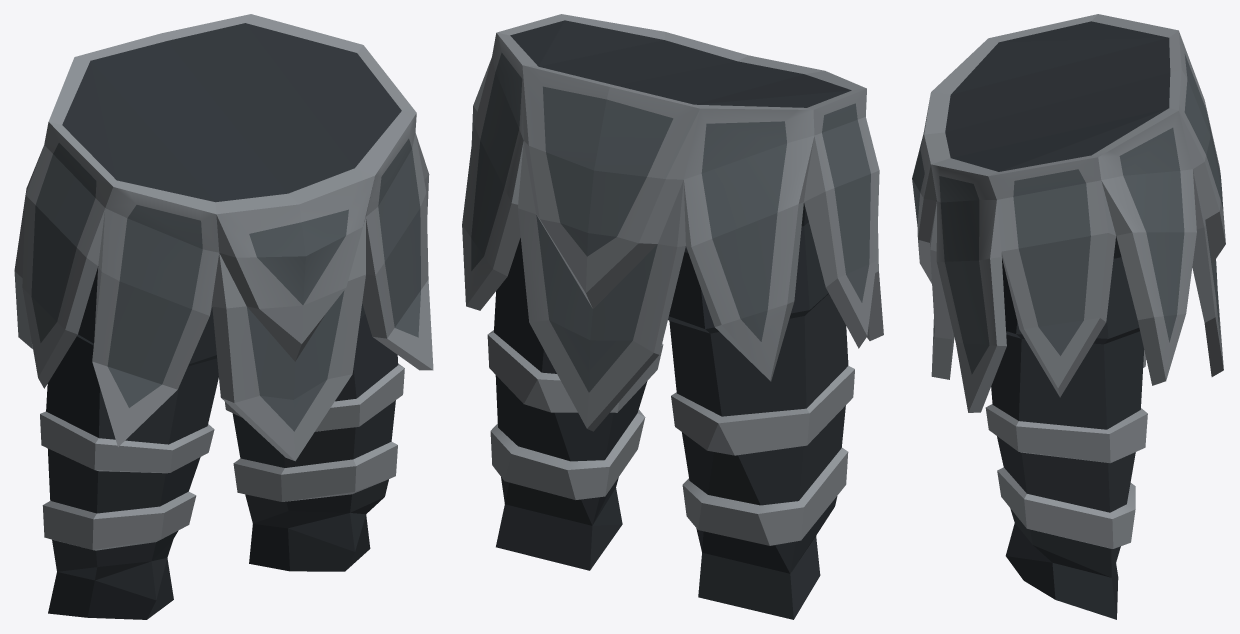
The model's file is Chr_Hips_Male_15_Static.fbx.
3 views of the same model, side by side, from view 1: azimuth 30°, elevation 25°; view 2: azimuth 150°, elevation 25°; view 3: azimuth 270°, elevation 25° (orthographic). The views are drawn at different scales.
Parts seen in each view (by area): view 1: Chr_Hips_Male_15_Static; view 2: Chr_Hips_Male_15_Static; view 3: Chr_Hips_Male_15_Static.
Boxes of the visible parts, x1,y1,x2,y2 form: Chr_Hips_Male_15_Static: [14, 14, 433, 619]; Chr_Hips_Male_15_Static: [462, 14, 883, 619]; Chr_Hips_Male_15_Static: [912, 14, 1225, 619].
Size of the model in its own units: 0.4235 by 0.554 by 0.3262.
